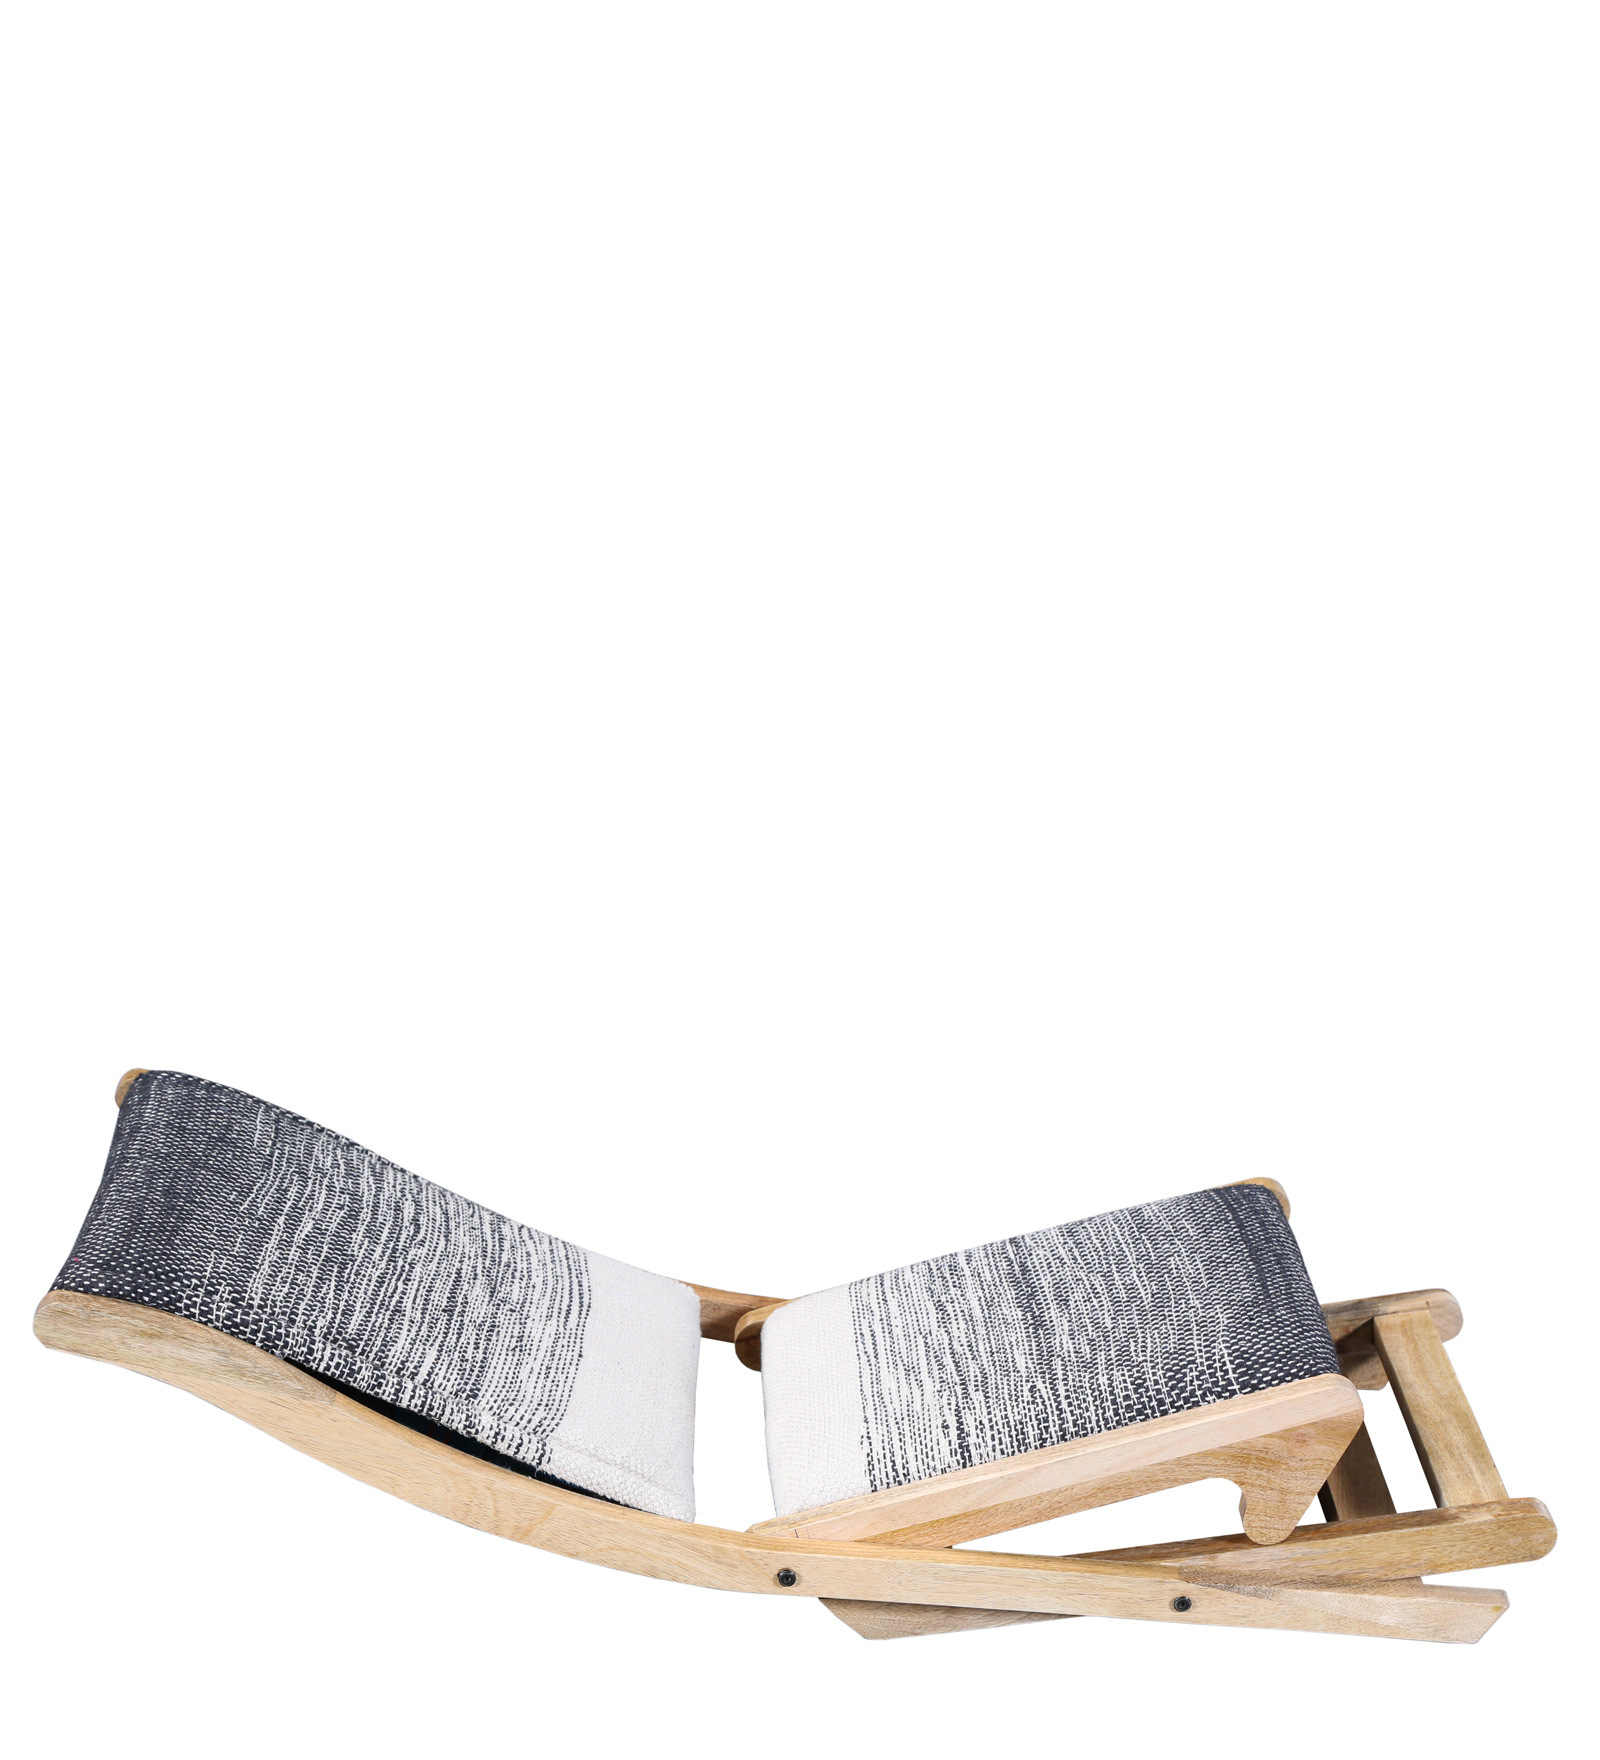Horan Folding Chair by Bohemiana: (17, 1036, 1600, 1716)
